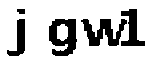1: (121, 7, 148, 50)
g: (47, 14, 79, 60)
j: (5, 6, 31, 59)
w: (78, 16, 125, 49)
